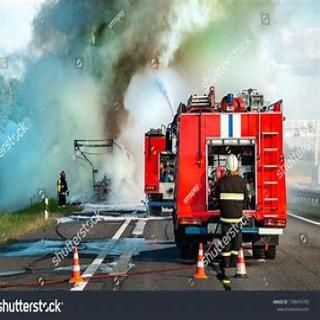Fire_truck: (143, 86, 287, 262)
